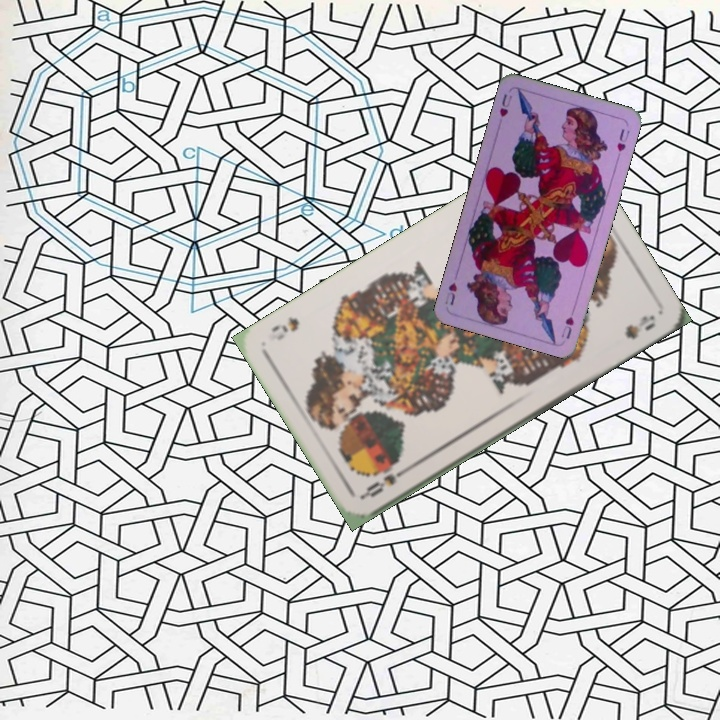HU: (557, 302, 578, 341), (495, 90, 515, 127)
SO: (359, 463, 413, 501)
